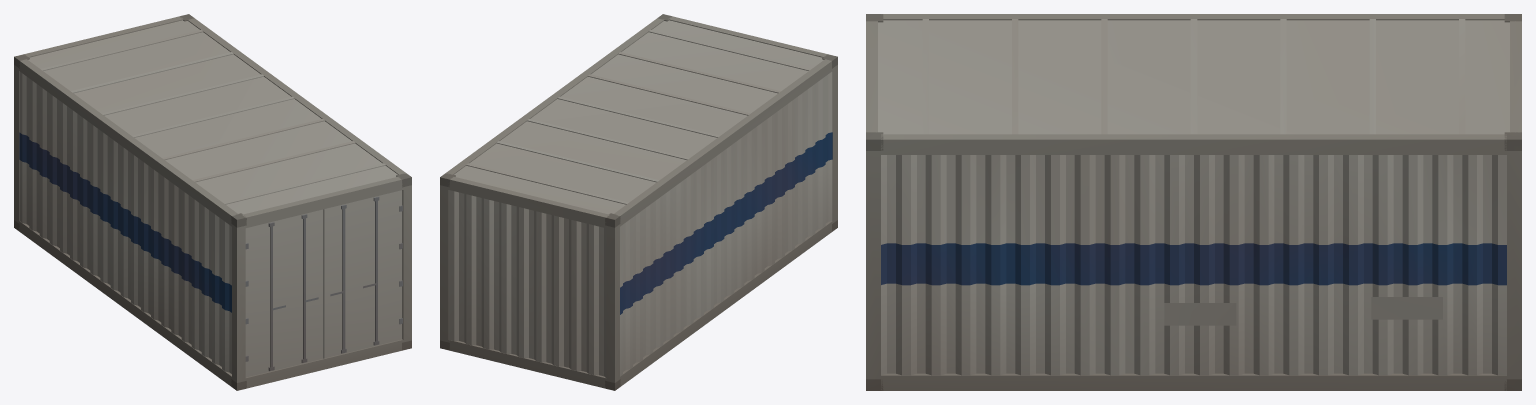
File: container.shipping.white.glb
3 renders of one model, left to right at view 1: azimuth 30°, elevation 25°; view 2: azimuth 150°, elevation 25°; view 3: azimuth 270°, elevation 25°, orthographic. The views are drawn at different scales.
Parts seen in each view (by area): view 1: container_shipping_white; view 2: container_shipping_white; view 3: container_shipping_white.
Boxes of the visible parts, <box> form: container_shipping_white: <box>14,14,411,390</box>; container_shipping_white: <box>440,14,837,390</box>; container_shipping_white: <box>866,14,1521,390</box>.
Size of what is drawn, in the model's own units: 2.78 by 2.6 by 6.14.
